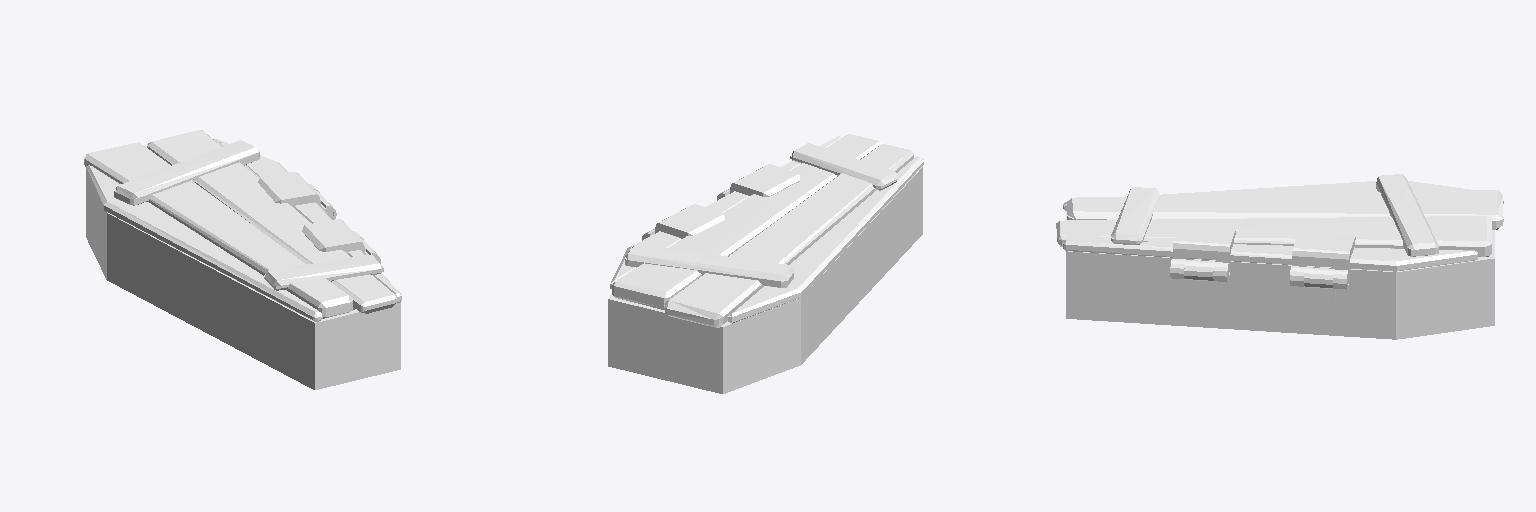
The model's file is Asset_Coffin.obj.
The picture shows the model from 3 angles: view 1: azimuth 30°, elevation 25°; view 2: azimuth 150°, elevation 25°; view 3: azimuth 270°, elevation 25°; orthographic projection.
Visible parts, largest first — view 1: Box012, Object029; view 2: Box012, Object029; view 3: Box012, Object029.
Part boxes in pixels (left/top/right/bottom): Box012: left=84, top=130, right=401, bottom=321; Object029: left=86, top=173, right=400, bottom=389; Box012: left=610, top=134, right=923, bottom=327; Object029: left=608, top=166, right=922, bottom=393; Box012: left=1056, top=174, right=1503, bottom=289; Object029: left=1066, top=211, right=1494, bottom=339.
Bounding box in the file's own units: 163 × 74.31 × 338.